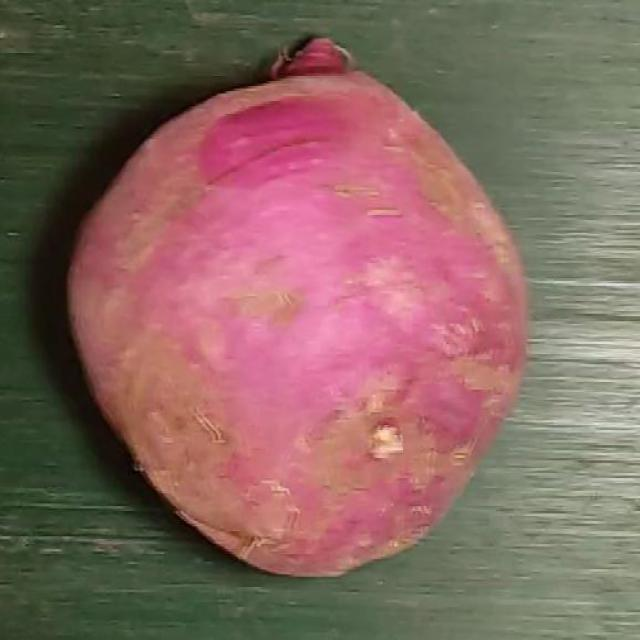Sweet Potato: (68, 37, 527, 579)
